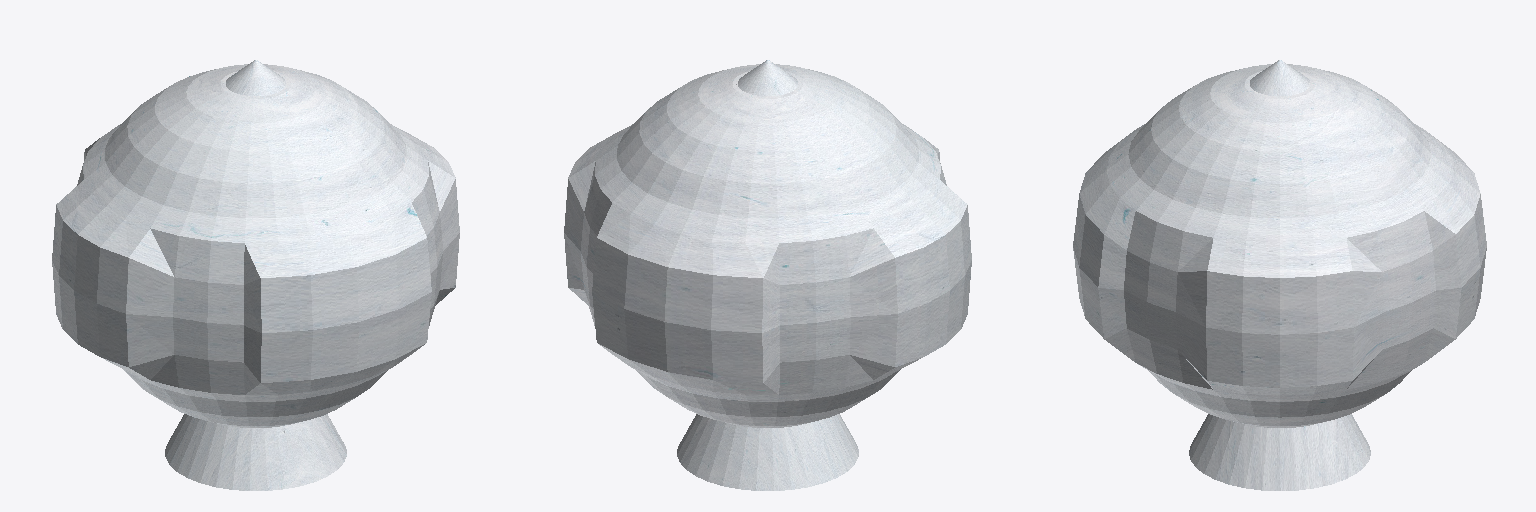
3 views of the same model, side by side, from view 1: azimuth 30°, elevation 25°; view 2: azimuth 150°, elevation 25°; view 3: azimuth 270°, elevation 25° (orthographic).
Parts seen in each view (by area): view 1: 球; view 2: 球; view 3: 球.
Boxes of the visible parts, <box> form: 球: <box>52,60,459,490</box>; 球: <box>564,60,971,490</box>; 球: <box>1073,60,1486,490</box>.
Size of the model in its own units: 4.61 by 4.76 by 4.54.
Materials: 1 (1 with a texture image).